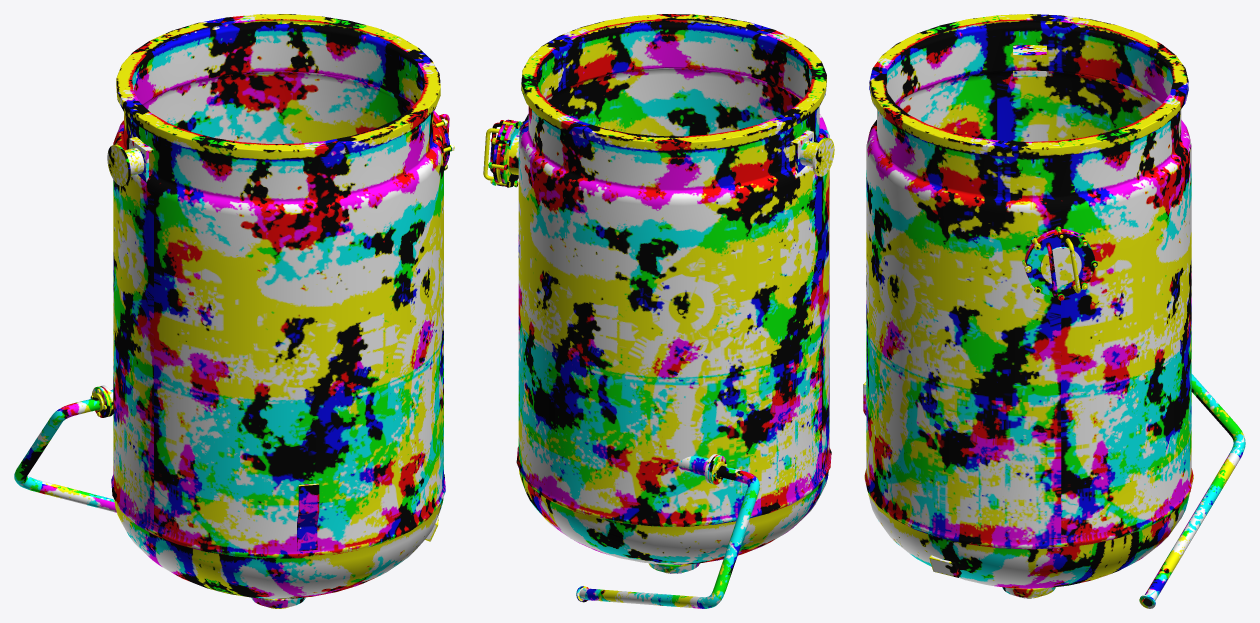
File: sm_Container_Body_01_03.fbx
The picture shows the model from 3 angles, left to right: view 1: azimuth 30°, elevation 25°; view 2: azimuth 150°, elevation 25°; view 3: azimuth 270°, elevation 25°; orthographic projection. The views are drawn at different scales.
Parts seen in each view (by area): view 1: sm_Container_Body_01_03_LOD0; view 2: sm_Container_Body_01_03_LOD0; view 3: sm_Container_Body_01_03_LOD0.
Boxes of the visible parts, x1,y1,x2,y2 form: sm_Container_Body_01_03_LOD0: (14,14,454,608); sm_Container_Body_01_03_LOD0: (483,14,834,608); sm_Container_Body_01_03_LOD0: (863,14,1245,608).
Bounding box in the file's own units: 182 × 179 × 264.
